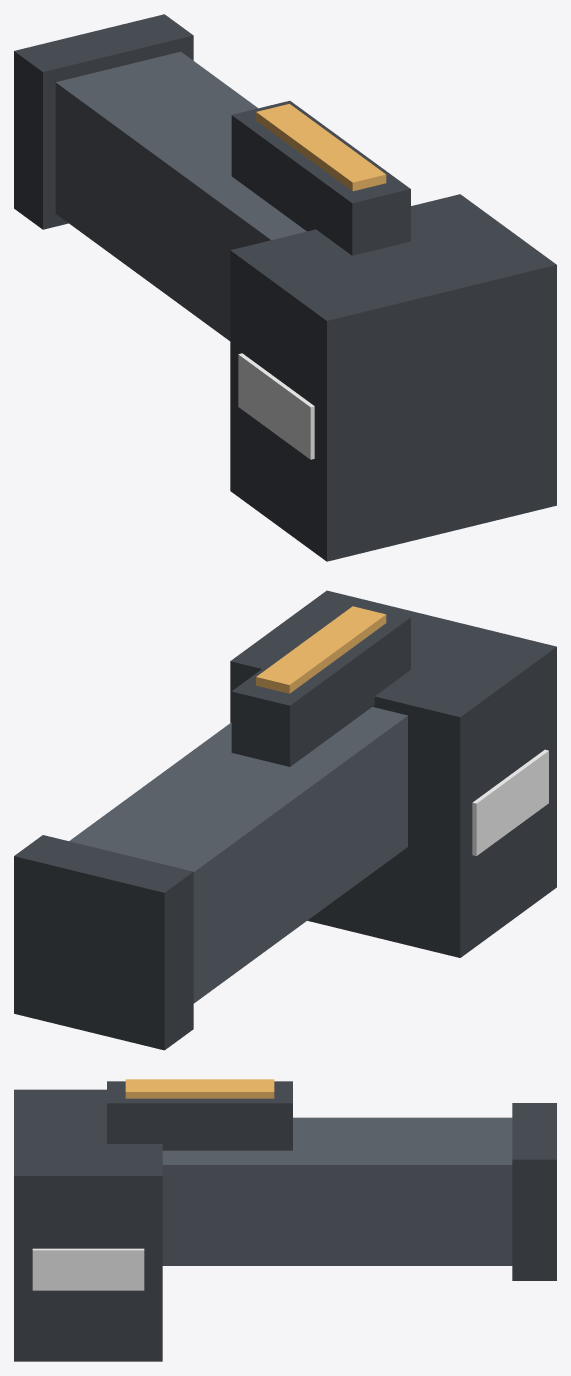
File: STICKY.gltf
The picture shows the model from 3 angles, top to bottom: view 1: azimuth 30°, elevation 25°; view 2: azimuth 150°, elevation 25°; view 3: azimuth 270°, elevation 25°; orthographic projection. The views are drawn at different scales.
Parts seen in each view (by area): view 1: STICKY; view 2: STICKY; view 3: STICKY.
Part boxes in pixels (x1,y1,x2,y2): STICKY: (14,14,556,561); STICKY: (14,590,556,1050); STICKY: (14,1079,556,1361).
Bounding box in the file's own units: 0.114 × 0.138 × 0.292.
